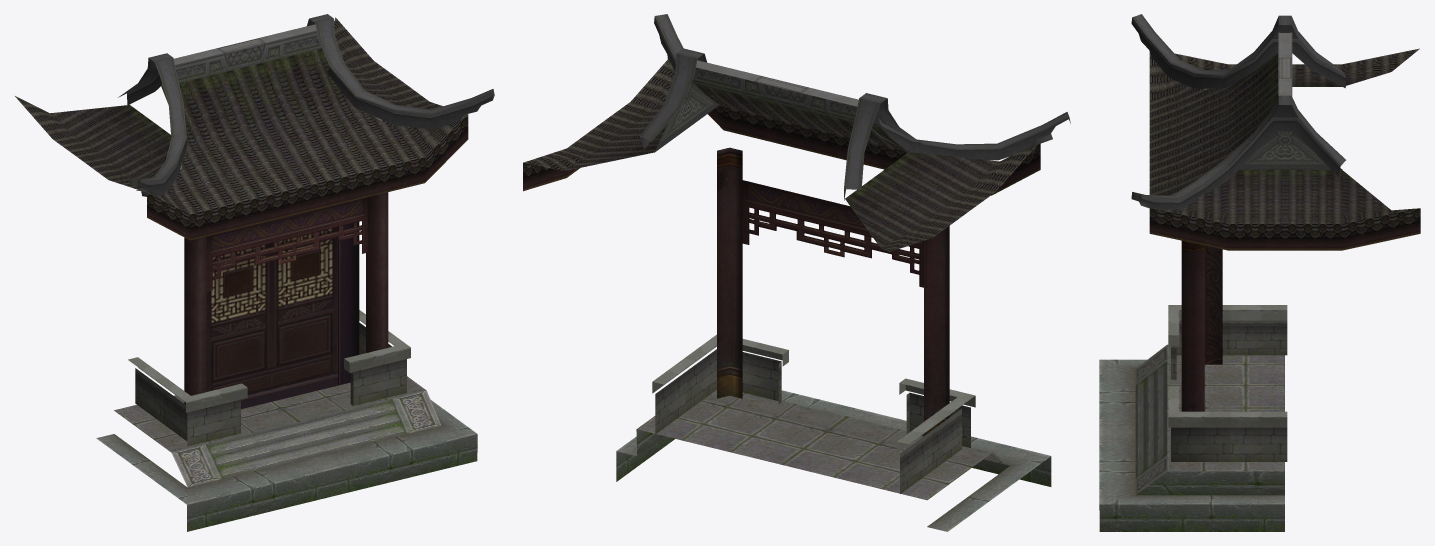
File: zc_suzhou_zhujian06.FBX
3 renders of one model, left to right at view 1: azimuth 30°, elevation 25°; view 2: azimuth 150°, elevation 25°; view 3: azimuth 270°, elevation 25°, orthographic. The views are drawn at different scales.
Parts seen in each view (by area): view 1: zc_suzhou_zhujian06; view 2: zc_suzhou_zhujian06; view 3: zc_suzhou_zhujian06.
Part boxes in pixels (x1,y1,x2,y2): zc_suzhou_zhujian06: [15, 14, 494, 531]; zc_suzhou_zhujian06: [523, 14, 1070, 531]; zc_suzhou_zhujian06: [1099, 14, 1420, 531].
Bounding box in the file's own units: 688 × 704 × 513.
Materials: 2 (2 with a texture image).
